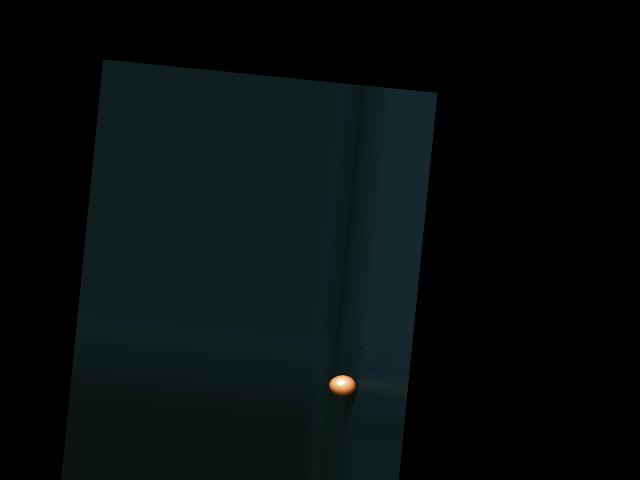egg: (328, 374, 357, 398)
